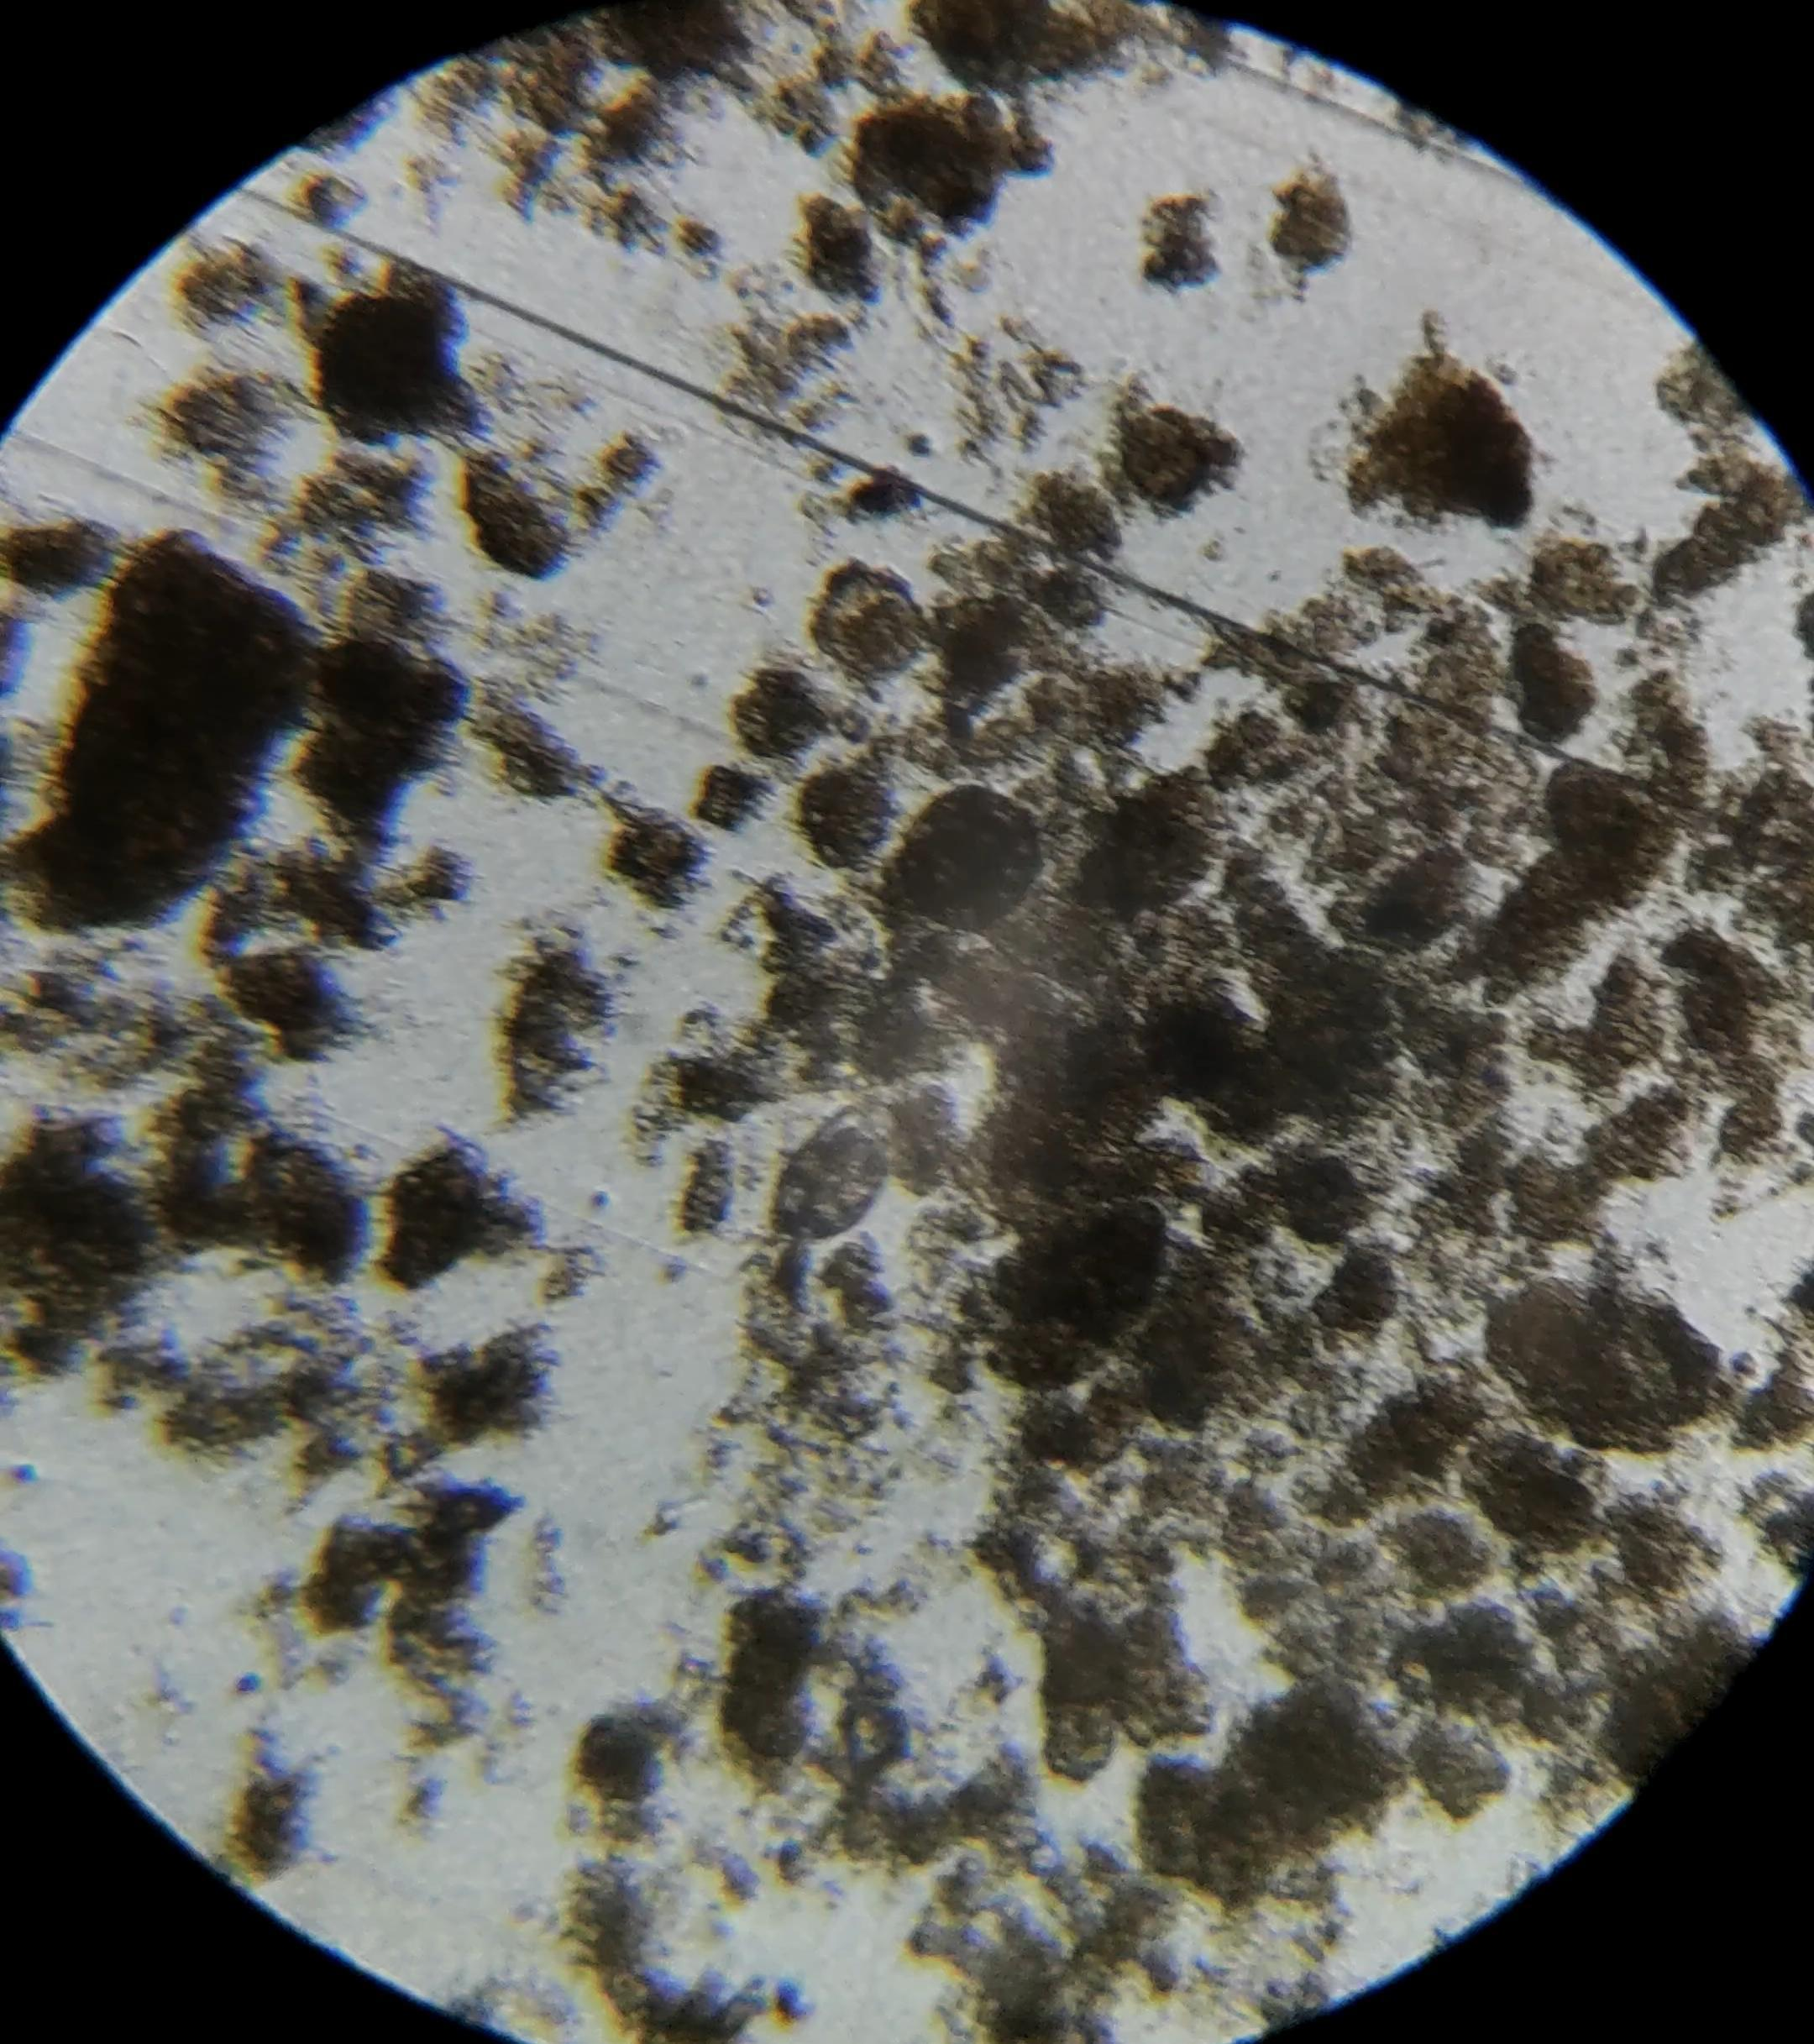Arcella: (905, 786, 1038, 934), (821, 573, 918, 676)
Mo: (770, 1103, 889, 1242)
